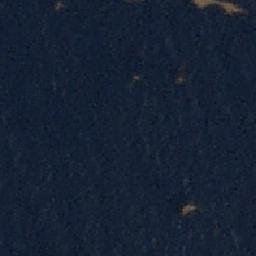debris: (192, 1, 244, 13), (177, 201, 197, 215), (176, 75, 185, 86), (133, 73, 142, 82), (54, 1, 62, 10)
